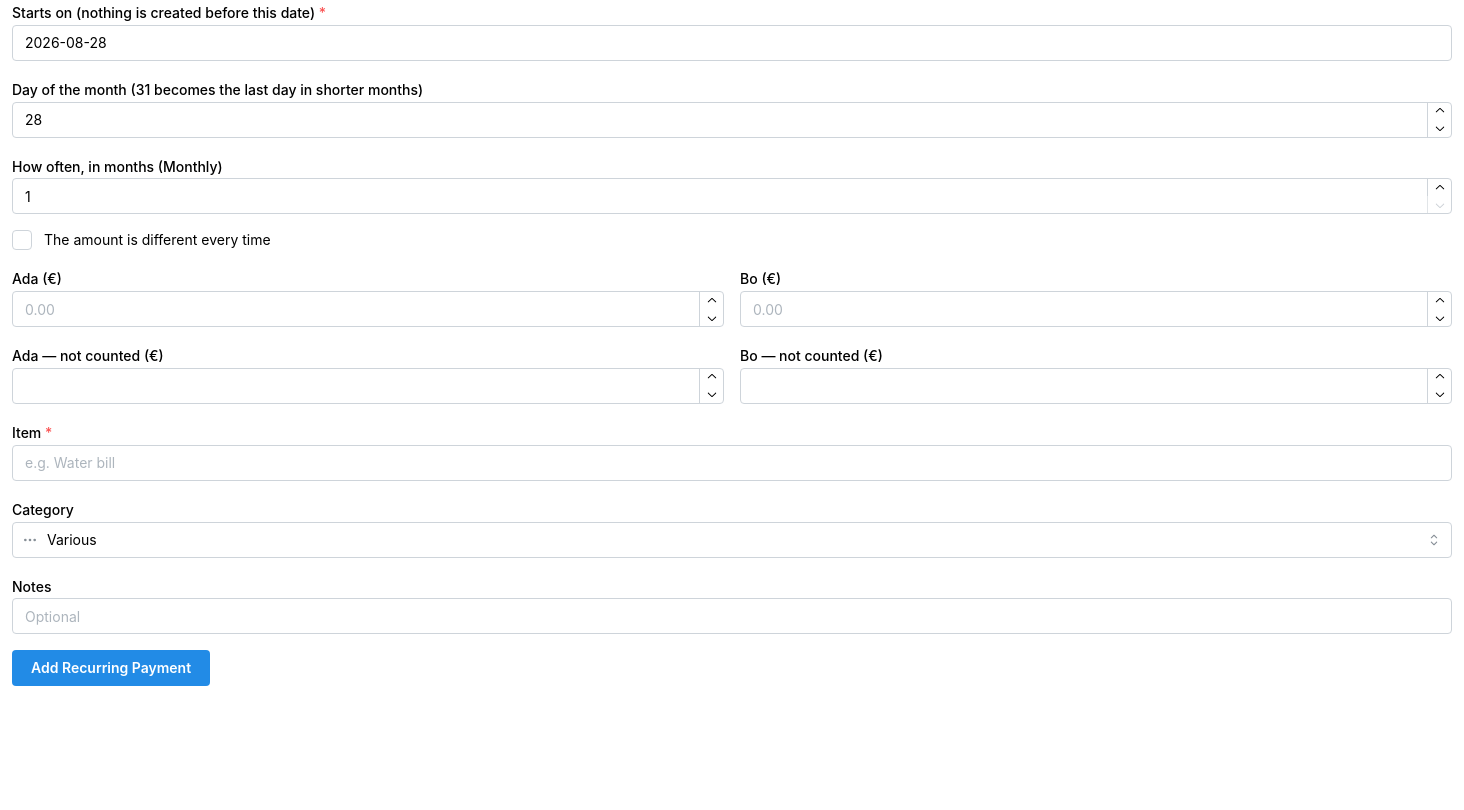
Test: RecurringForm › requires an amount, since a rule with none would create empty expenses
The image size is (1464, 810).
Type "Phone" into the field labelled "Item" at (732, 463), box [12,445,1452,481]
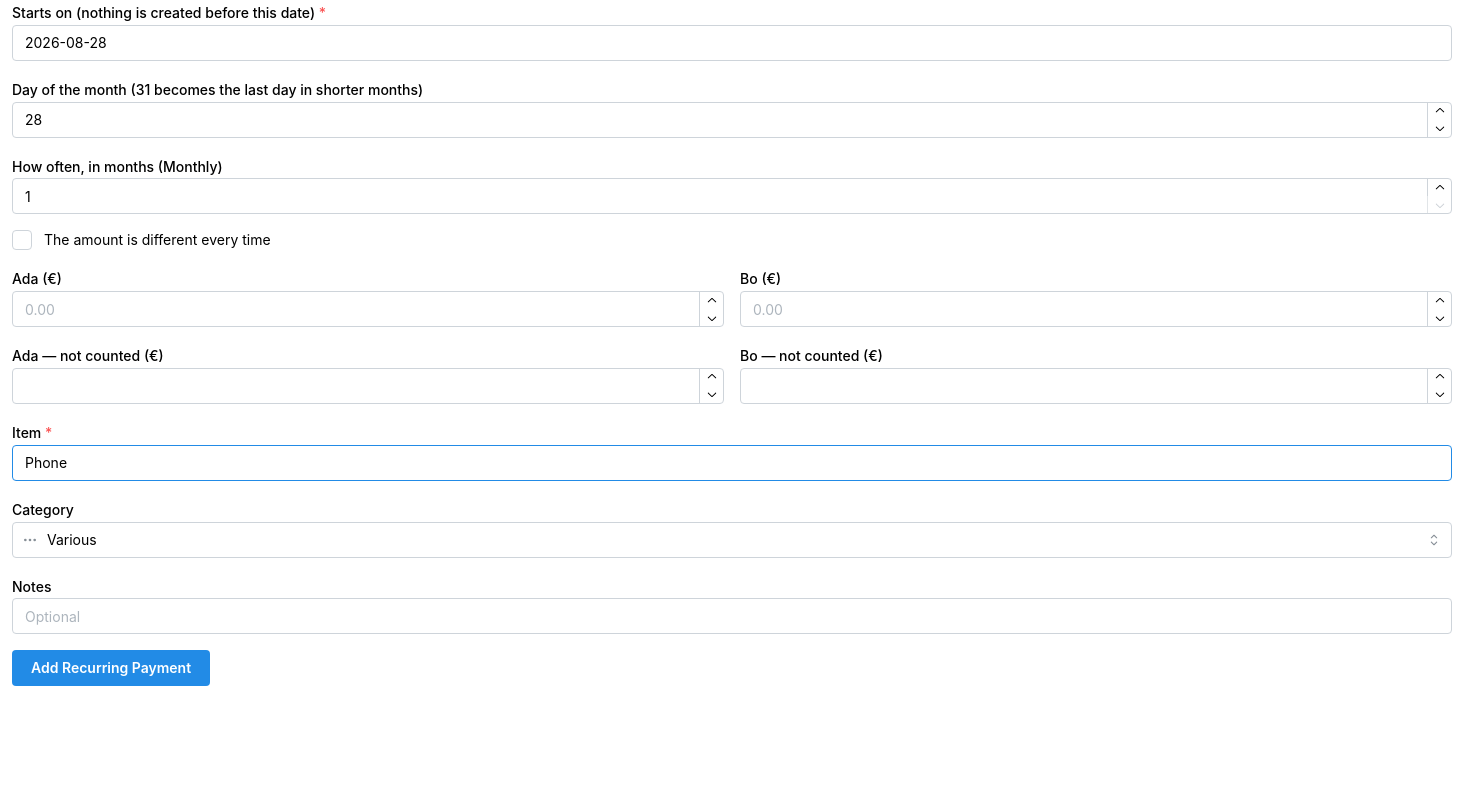
Click the button "Add Recurring Payment" at (111, 668), box [12,650,210,686]
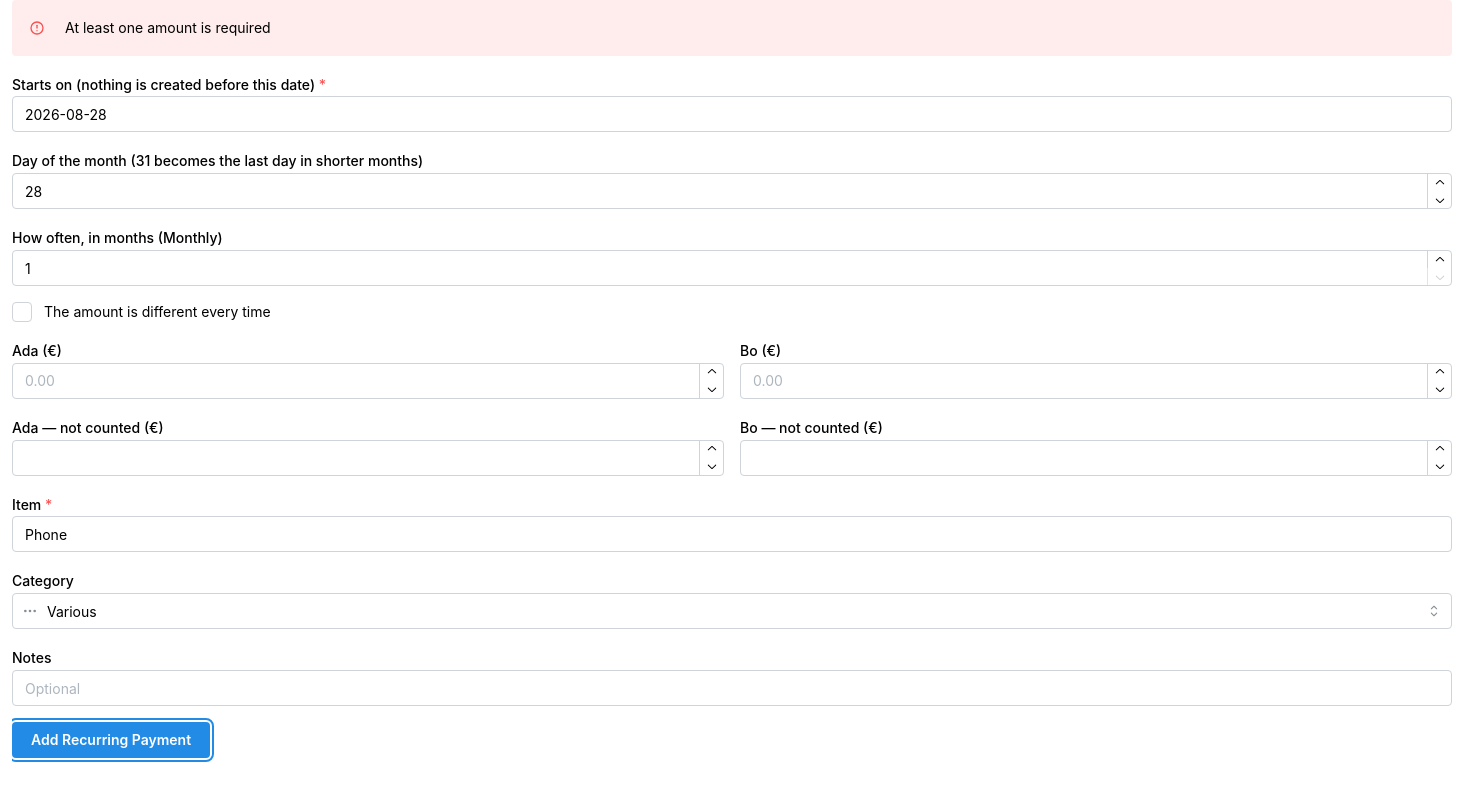
expect the text "At least one amount is required" is shown: met, box [65,19,271,36]
